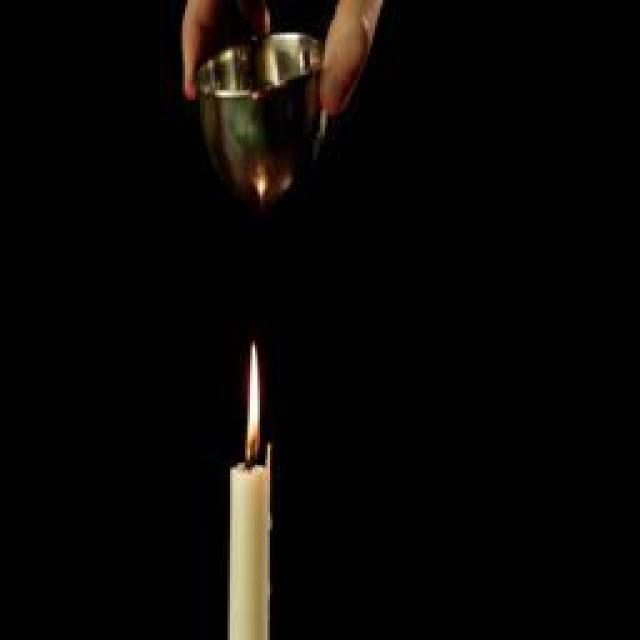Fire: (245, 344, 260, 458)
